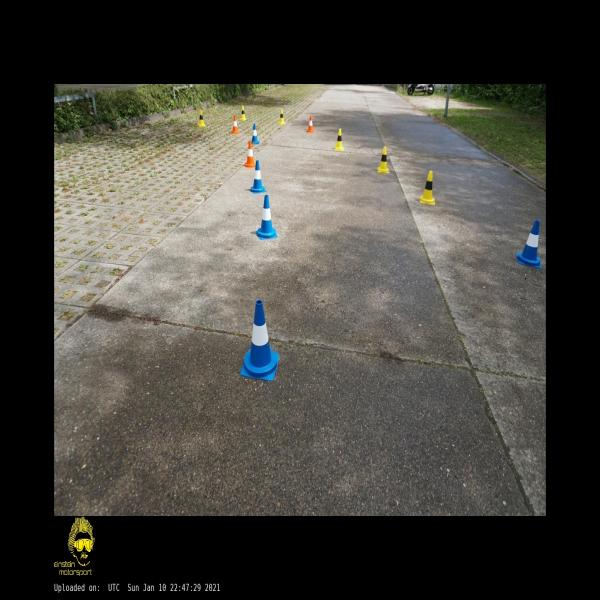blue_cone: (241, 300, 279, 380), (516, 220, 542, 269), (256, 195, 278, 240), (249, 160, 267, 193), (252, 123, 260, 145)
orange_cone: (244, 142, 256, 166), (230, 115, 240, 134), (306, 115, 314, 133)
yellow_cone: (420, 170, 436, 204), (376, 146, 390, 174), (334, 128, 343, 150), (198, 109, 206, 127), (279, 109, 285, 124), (240, 106, 246, 121)
